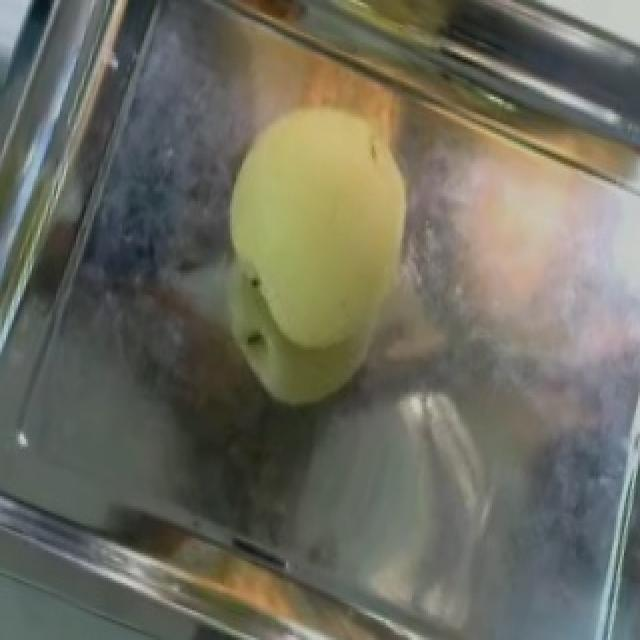Fruit: (170, 0, 494, 387)
